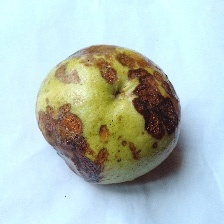guava: (39, 33, 176, 182)
